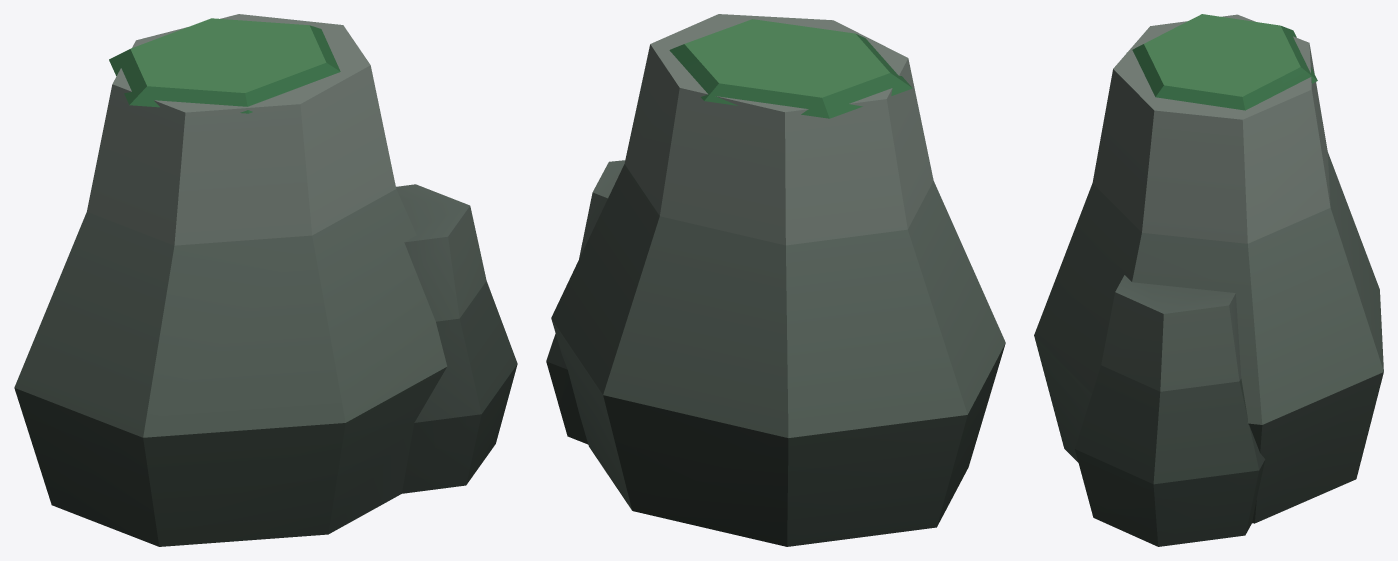
The model's file is custom-pedra-observacao.glb.
The picture shows the model from 3 angles, left to right: view 1: azimuth 30°, elevation 25°; view 2: azimuth 150°, elevation 25°; view 3: azimuth 270°, elevation 25°; orthographic projection. The views are drawn at different scales.
Parts seen in each view (by area): view 1: pedra-observacao; view 2: pedra-observacao; view 3: pedra-observacao.
Part boxes in pixels (box(x1,y1,x2,y2)): pedra-observacao: box(14, 14, 517, 546); pedra-observacao: box(546, 14, 1005, 546); pedra-observacao: box(1034, 14, 1383, 546).
Bounding box in the file's own units: 4.57 × 4.08 × 3.35.
